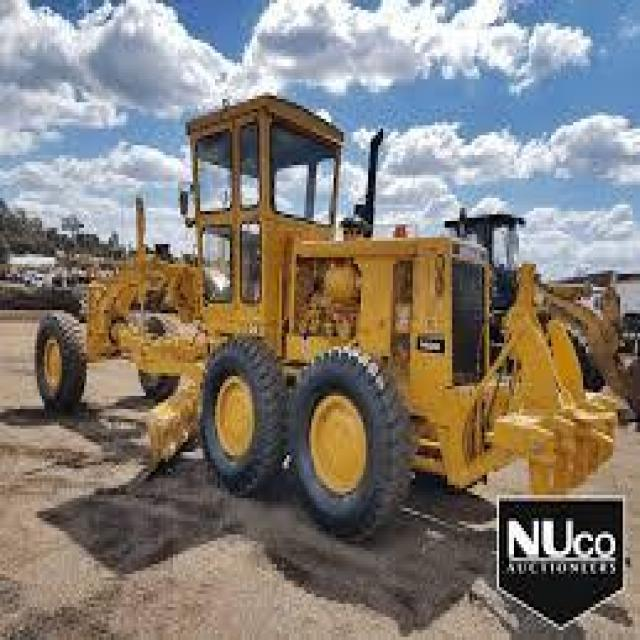Grader: (25, 79, 628, 564)
